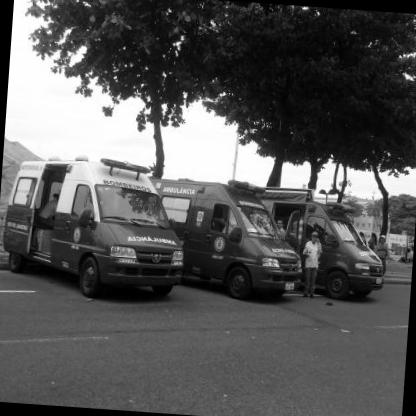ambulance: (1, 150, 199, 315), (155, 172, 311, 305), (256, 184, 394, 310)
